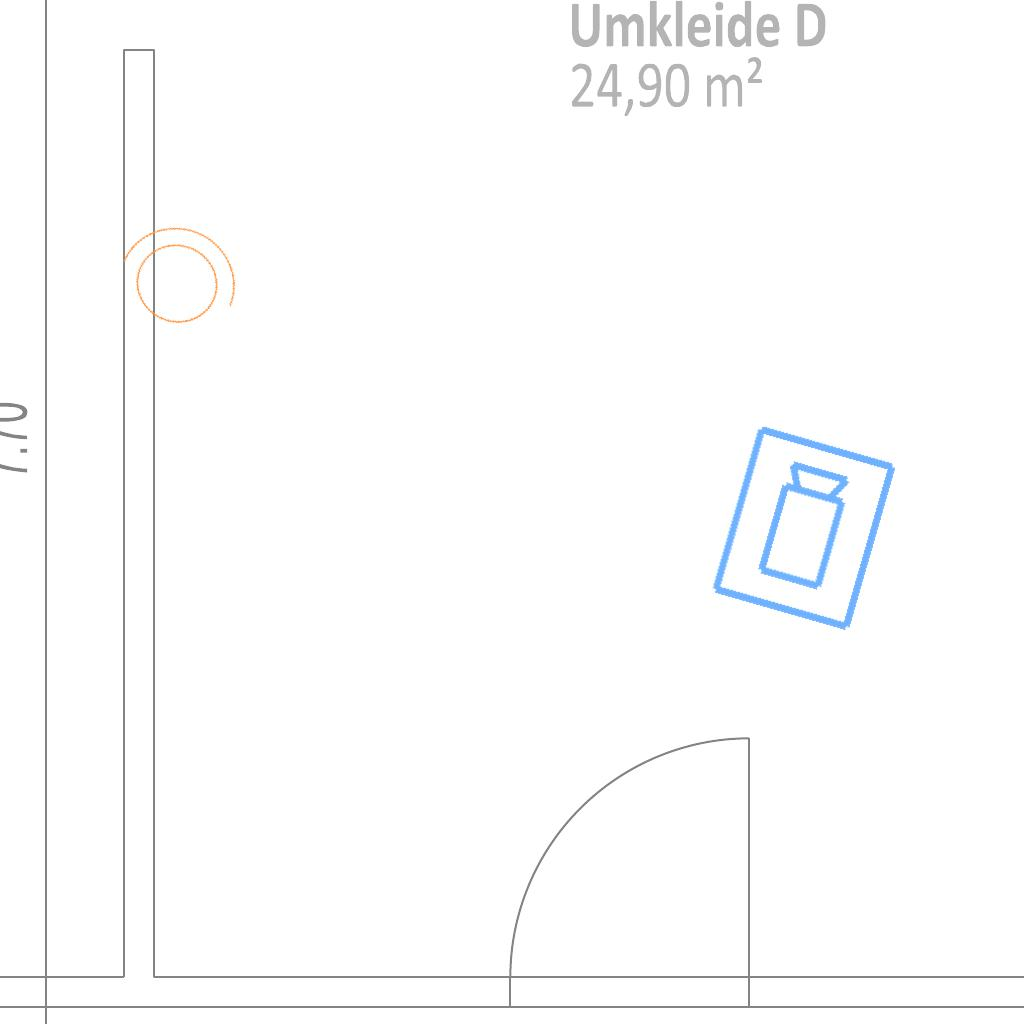KFO_Kamera_mit_Festobjektiv: (705, 420, 905, 638)
Scheinwerfer_fuer_Alarmbeleuchtung: (93, 200, 259, 356)
